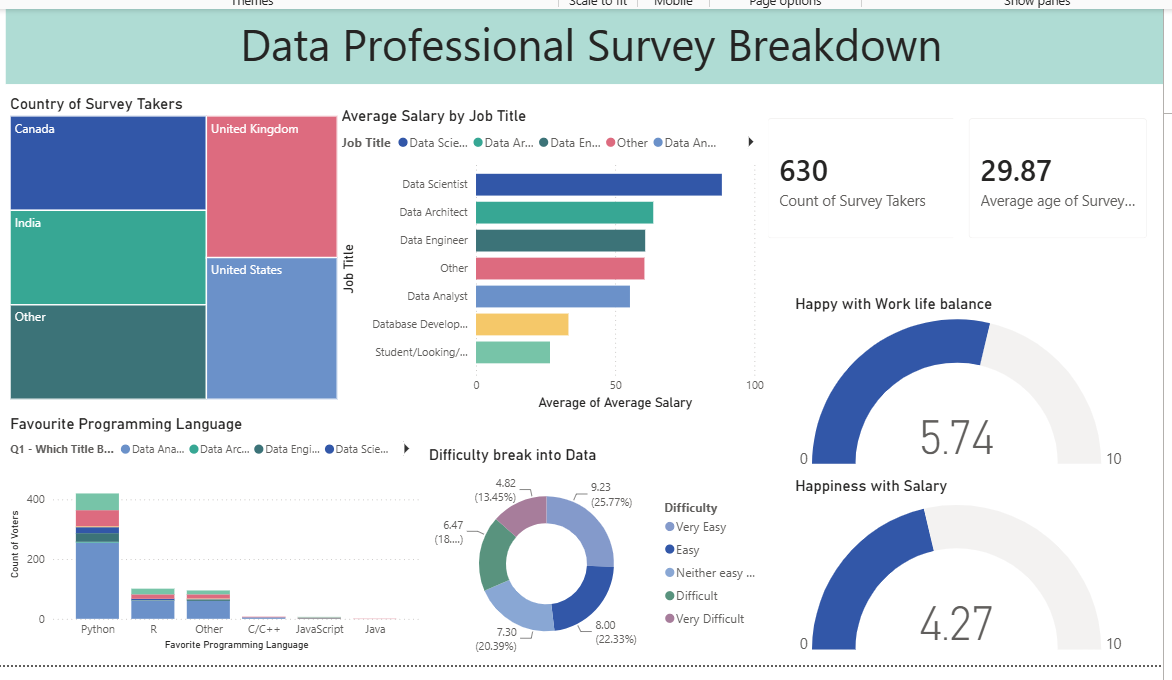

This screenshot's page, from the dashboard's own definition file:
{"tool":"powerbi","page":{"name":"Page 1","canvas":[1280,720],"ordinal":0},"visuals":[{"type":"textbox","box":[9.6,0,1270.7,82.3],"z":0},{"type":"cardVisual","fields":{"Data":["CountNonNull(Data Professional Survey.Unique ID)"]},"box":[828.8,102.9,249.7,166],"z":1},{"type":"cardVisual","fields":{"Data":["Avg(Data Professional Survey.Q10 - Current Age)"]},"box":[1049.7,102.9,230.5,166],"z":2},{"type":"barChart","title":"Average Salary by Job Title","fields":{"Category":["Data Professional Survey.Q1 - Which Title Best Fits your Current Role?.1"],"Y":["Avg(Data Professional Survey.Average Salary)"],"Series":["Data Professional Survey.Q1 - Which Title Best Fits your Current Role?.1"]},"box":[373.2,107,473.4,337.6],"z":3},{"type":"columnChart","title":"Favourite Programming Language","fields":{"Category":["Data Professional Survey.Q5 - Favorite Programming Language.1"],"Y":["CountNonNull(Data Professional Survey.Unique ID)"],"Series":["Data Professional Survey.Q1 - Which Title Best Fits your Current Role?.1"]},"box":[9.6,444.6,459.7,264.8],"z":4},{"type":"treemap","title":"Country of Survey Takers","fields":{"Group":["Data Professional Survey.Q11 - Which Country do you live in?.1"],"Values":["Count(Data Professional Survey.Q11 - Which Country do you live in?.1)"]},"box":[9.6,93.3,369.1,340.3],"z":5},{"type":"gauge","title":"Happiness with Salary","fields":{"Y":["Avg(Data Professional Survey.Q6 - How Happy are you in your Current Position with the following? (Salary))"],"MinValue":["Min(Data Professional Survey.Q6 - How Happy are you in your Current Position with the following? (Salary))"],"MaxValue":["Max(Data Professional Survey.Q6 - How Happy are you in your Current Position with the following? (Salary))"]},"box":[871.4,513.2,373.2,207.2],"z":6},{"type":"gauge","title":"Happy with Work life balance","fields":{"Y":["Avg(Data Professional Survey.Q6 - How Happy are you in your Current Position with the following? (Work/Life Balance))"],"MinValue":["Min(Data Professional Survey.Q6 - How Happy are you in your Current Position with the following? (Work/Life Balance))1"],"MaxValue":["Max(Data Professional Survey.Q6 - How Happy are you in your Current Position with the following? (Work/Life Balance))2"]},"box":[871.4,312.9,373.2,200.3],"z":7},{"type":"donutChart","title":"Difficulty break into Data","fields":{"Y":["Sum(Data Professional Survey.Q10 - Current Age)"],"Category":["Data Professional Survey.Q7 - How difficult was it for you to break into Data?"]},"box":[469.3,478.9,380.1,241.5],"z":8}]}

Visuals, with their boxes on the page's 1280x720 design canvas (x1, y1, x2, y2). These are canvas units, not pixel positions in the 1172x680 screenshot, which may show the page scaled, cropped or inside an application window:
textbox: pyautogui.locateOnScreen(10, 0, 1280, 82)
cardVisual - CountNonNull(Data Professional Survey.Unique ID): pyautogui.locateOnScreen(829, 103, 1078, 269)
cardVisual - Avg(Data Professional Survey.Q10 - Current Age): pyautogui.locateOnScreen(1050, 103, 1280, 269)
"Average Salary by Job Title" barChart: pyautogui.locateOnScreen(373, 107, 847, 445)
"Favourite Programming Language" columnChart: pyautogui.locateOnScreen(10, 445, 469, 709)
"Country of Survey Takers" treemap: pyautogui.locateOnScreen(10, 93, 379, 434)
"Happiness with Salary" gauge: pyautogui.locateOnScreen(871, 513, 1245, 720)
"Happy with Work life balance" gauge: pyautogui.locateOnScreen(871, 313, 1245, 513)
"Difficulty break into Data" donutChart: pyautogui.locateOnScreen(469, 479, 849, 720)
